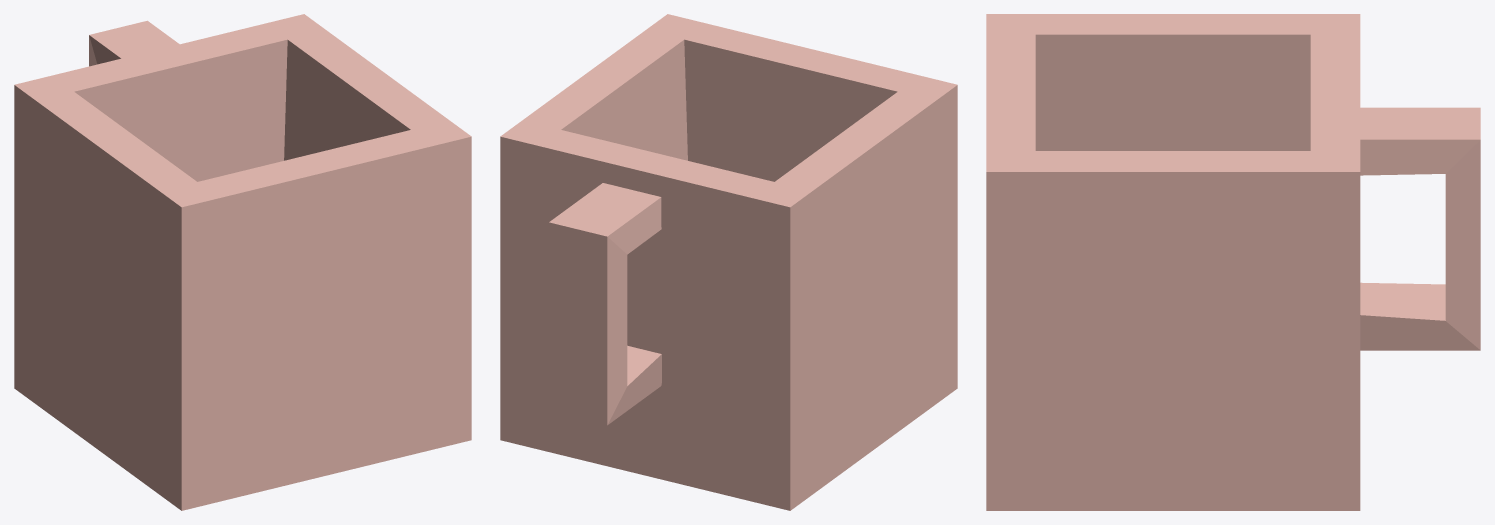
File: CandylandCup_02.fbx
The picture shows the model from 3 angles, left to right: view 1: azimuth 30°, elevation 25°; view 2: azimuth 150°, elevation 25°; view 3: azimuth 270°, elevation 25°; orthographic projection. The views are drawn at different scales.
Visible parts, largest first — view 1: CandylandCup_02; view 2: CandylandCup_02; view 3: CandylandCup_02.
Boxes of the visible parts, left/top/right/bottom form: CandylandCup_02: left=14, top=14, right=471, bottom=510; CandylandCup_02: left=500, top=14, right=957, bottom=510; CandylandCup_02: left=986, top=14, right=1480, bottom=510.
Bounding box in the file's own units: 0.5116 × 0.5116 × 0.6766.
